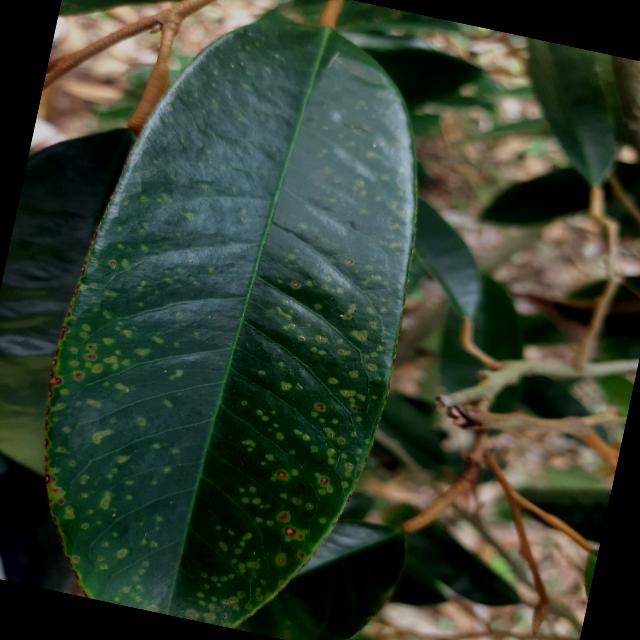Leaf Spot: (2, 0, 472, 639)
